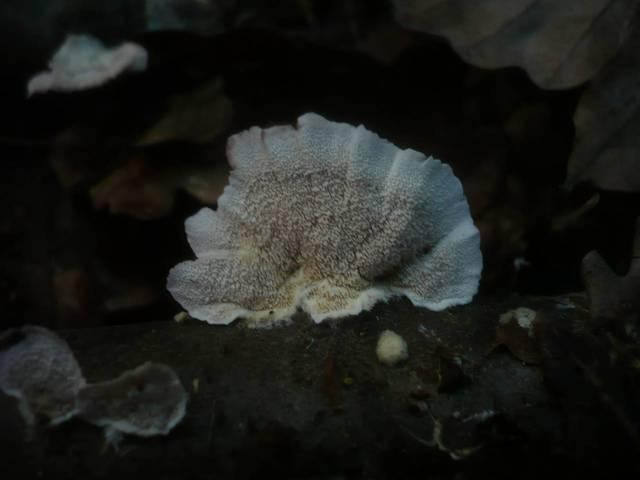poisonous_mushroom: (164, 110, 484, 329)
